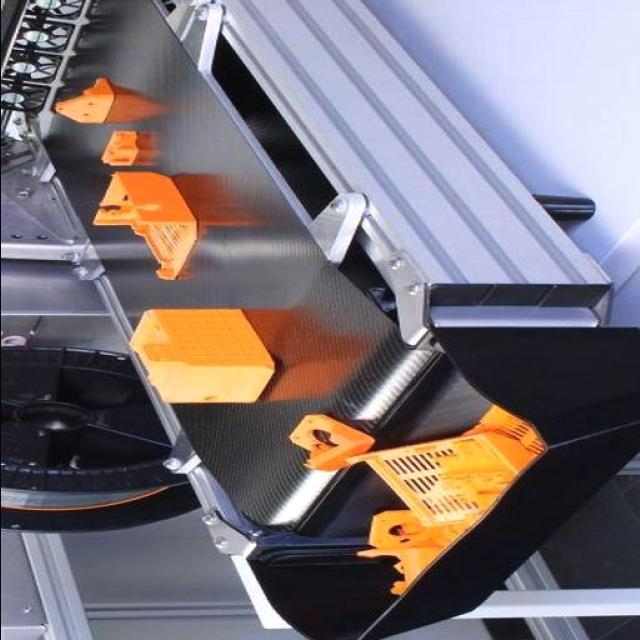conveyor: (37, 0, 441, 542)
